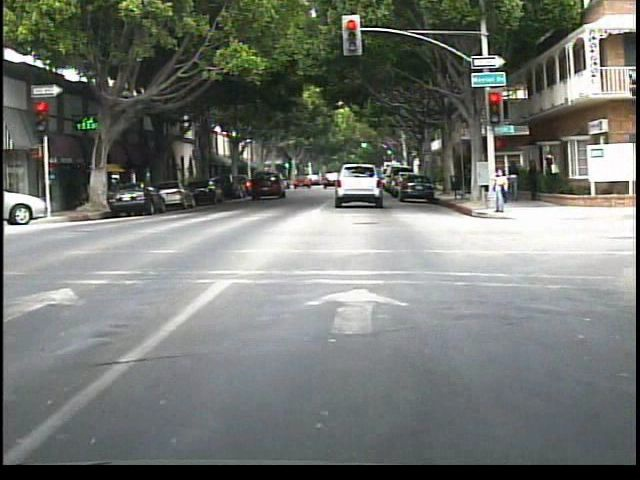person: (486, 167, 511, 216), (524, 156, 543, 204), (505, 158, 523, 204), (542, 149, 560, 194)
